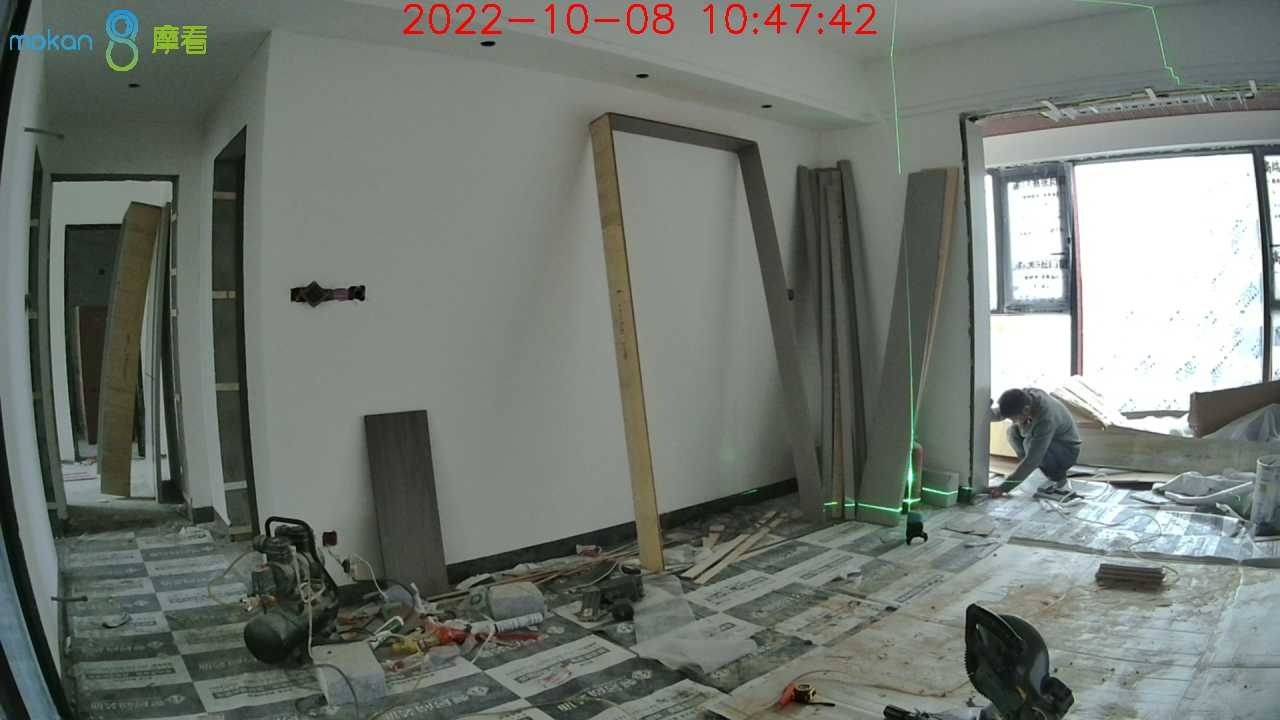people: (990, 390, 1081, 502)
window: (986, 143, 1280, 418)
